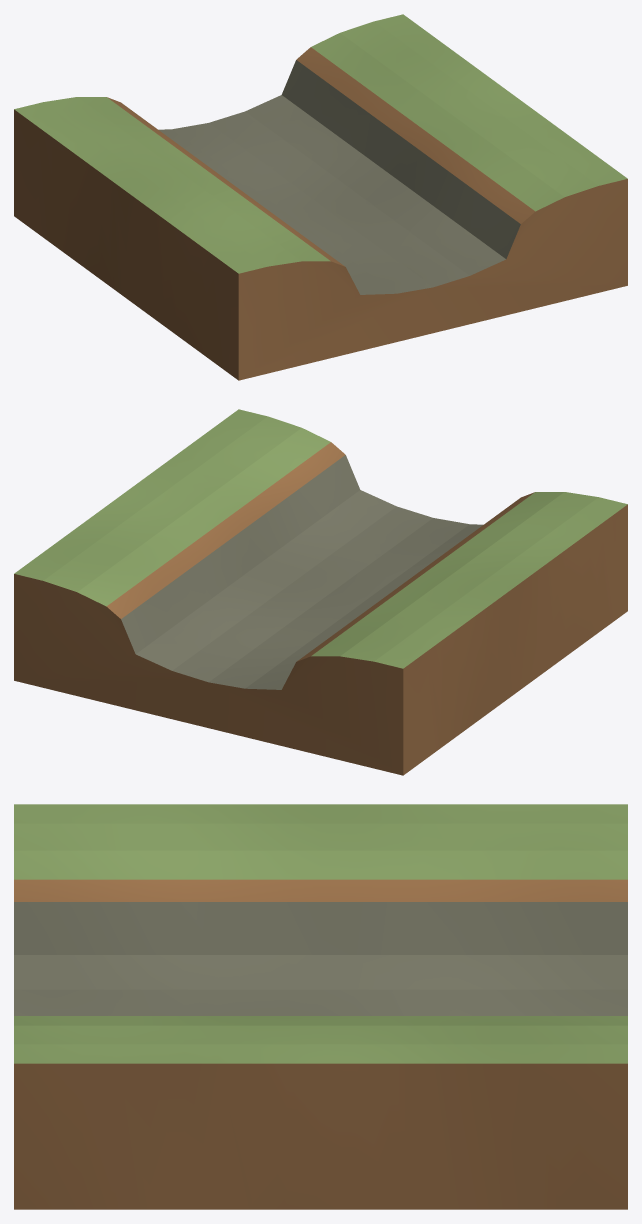
The model's file is Environment_Terrain_RiverStraight8m_001.glb.
3 views of the same model, one above another, from view 1: azimuth 30°, elevation 25°; view 2: azimuth 150°, elevation 25°; view 3: azimuth 270°, elevation 25° (orthographic). The views are drawn at different scales.
Parts seen in each view (by area): view 1: TC_RiverStraight8m_Body; view 2: TC_RiverStraight8m_Body; view 3: TC_RiverStraight8m_Body.
Boxes of the visible parts, x1,y1,x2,y2 form: TC_RiverStraight8m_Body: [14, 14, 627, 380]; TC_RiverStraight8m_Body: [14, 409, 627, 775]; TC_RiverStraight8m_Body: [14, 804, 627, 1209].
Bounding box in the file's own units: 8 × 2.1 × 8.
